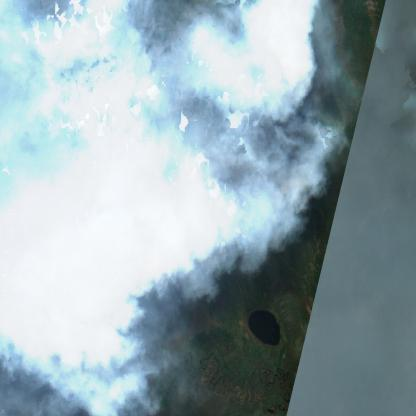fire: (120, 50, 312, 298)
